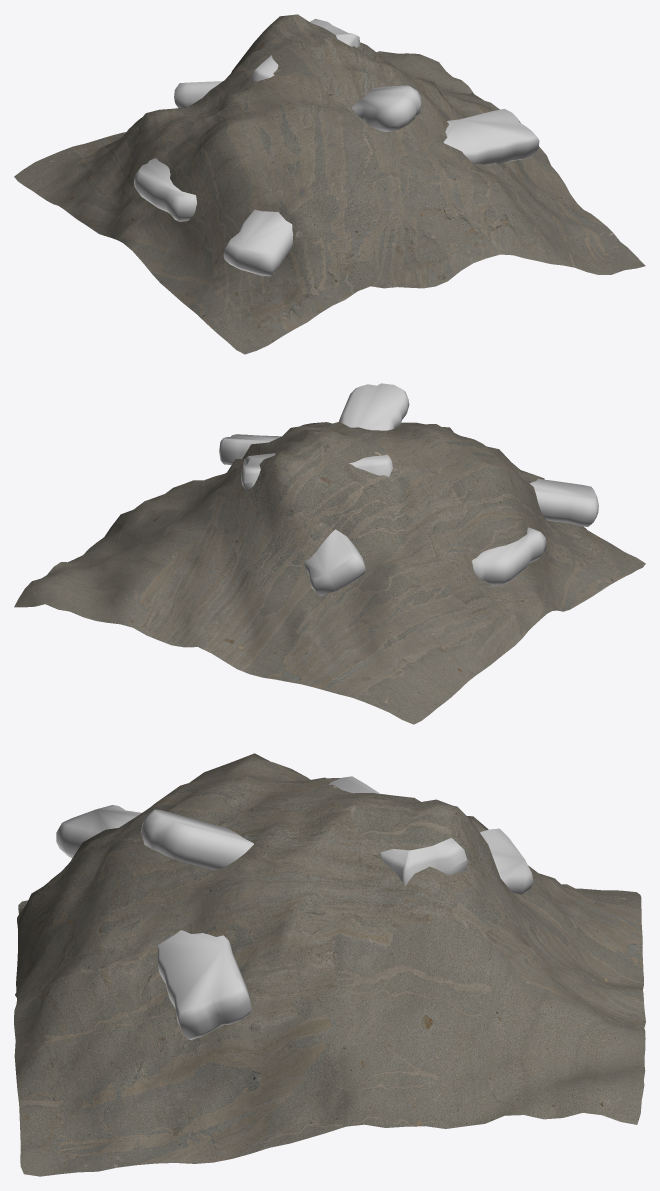
File: SD2_Heap_1.fbx
The picture shows the model from 3 angles, top to bottom: view 1: azimuth 30°, elevation 25°; view 2: azimuth 150°, elevation 25°; view 3: azimuth 270°, elevation 25°; orthographic projection. The views are drawn at different scales.
Visible parts, largest first — view 1: SD2_heap_1; view 2: SD2_heap_1; view 3: SD2_heap_1.
Part boxes in pixels (left/top/right/bottom): SD2_heap_1: left=14, top=14, right=645, bottom=354; SD2_heap_1: left=14, top=383, right=645, bottom=724; SD2_heap_1: left=14, top=753, right=645, bottom=1176.
Size of the model in its own units: 182 by 179 by 76.58.
